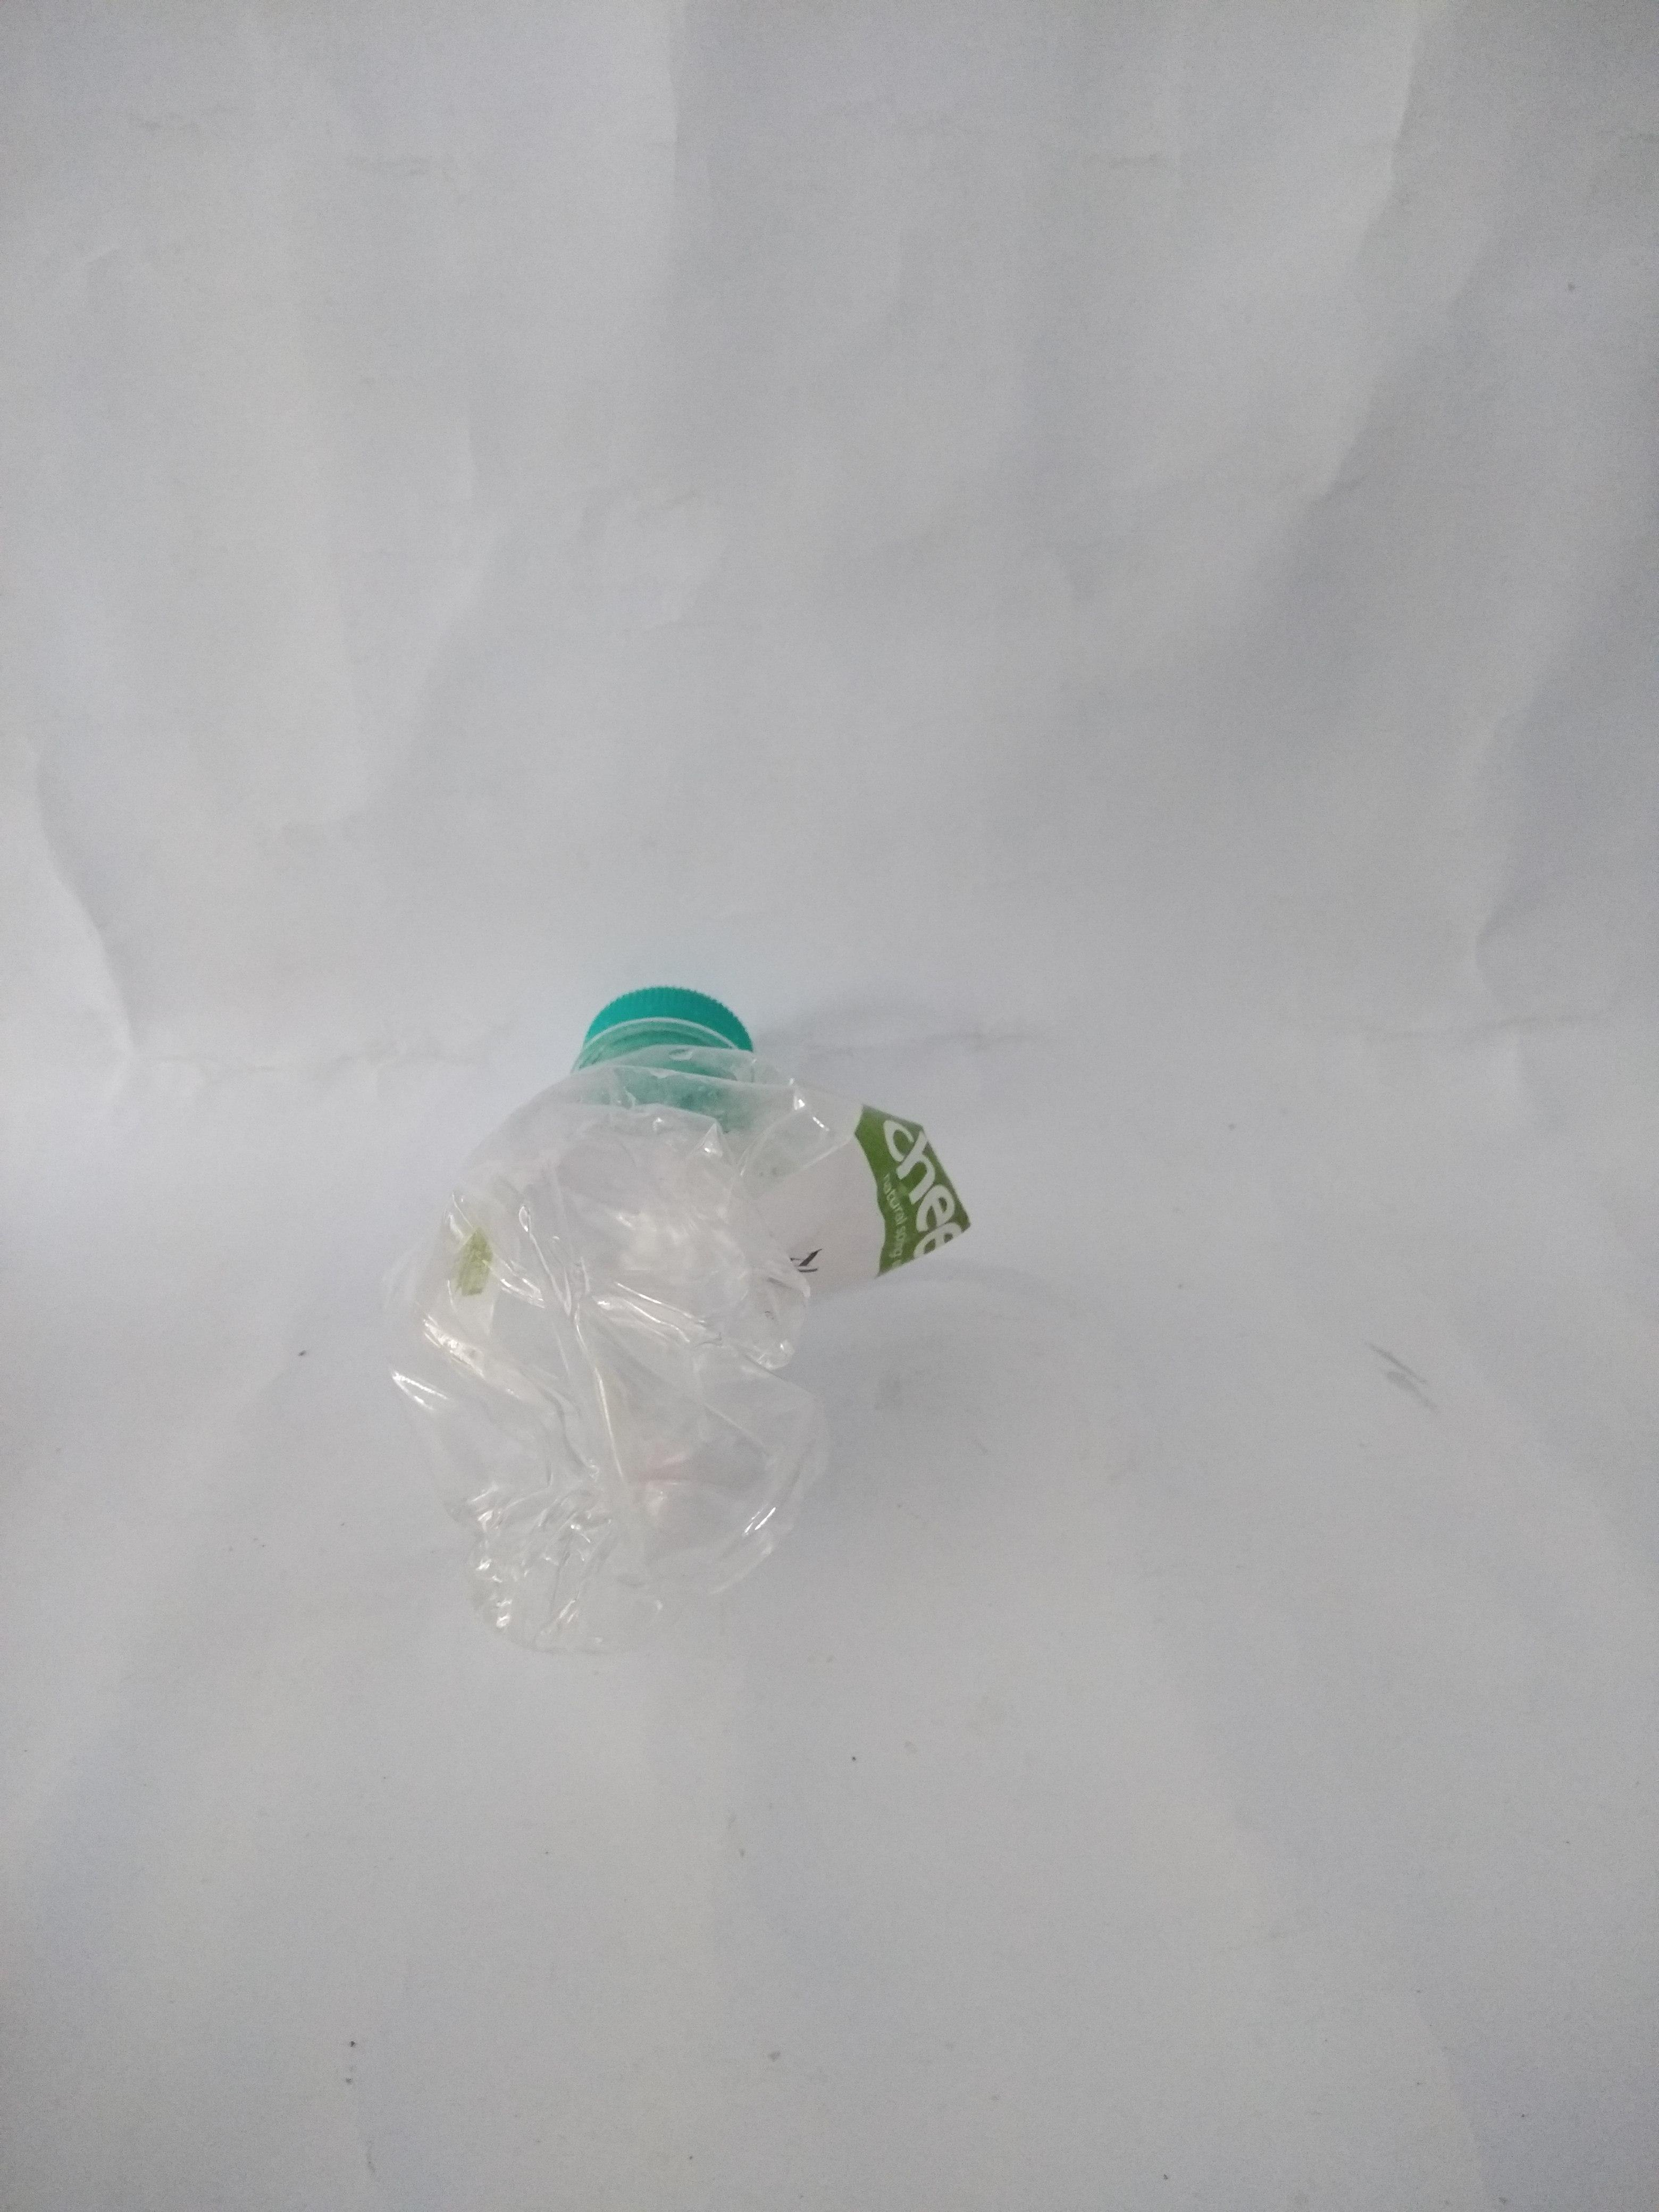PETE: (331, 1036, 1039, 1691)
